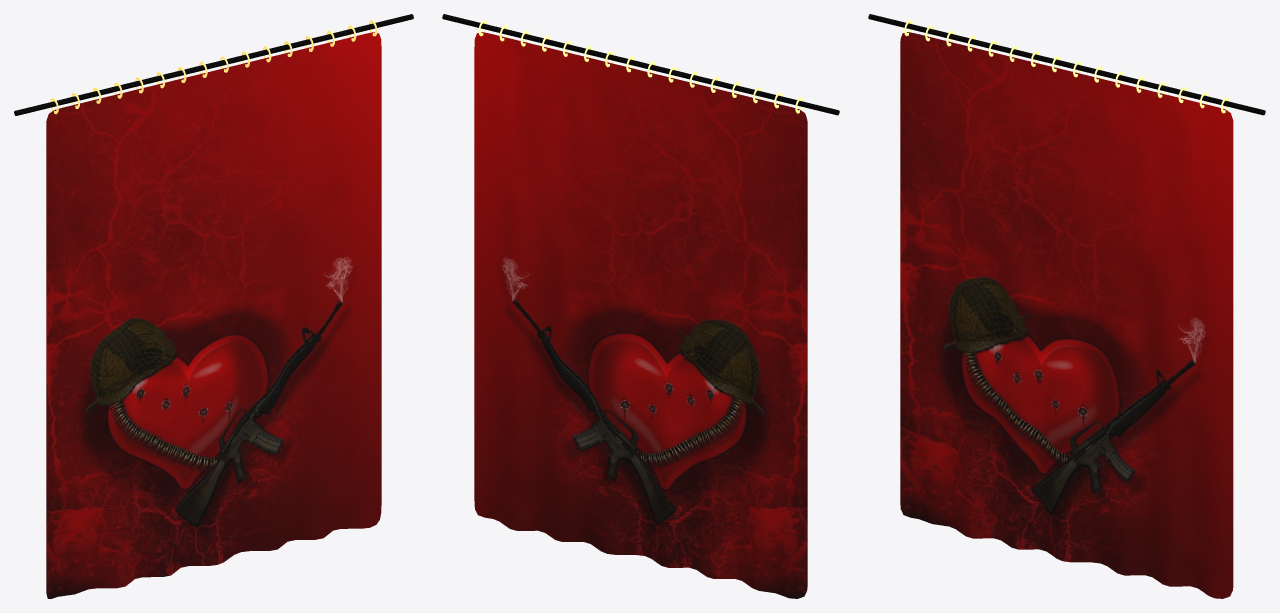
File: cortina.glb
3 views of the same model, side by side, from view 1: azimuth 30°, elevation 25°; view 2: azimuth 150°, elevation 25°; view 3: azimuth 330°, elevation 25° (orthographic).
Visible parts, largest first — view 1: cartelii, Cylinder, Torus; view 2: cartelii, Cylinder, Torus; view 3: cartelii, Cylinder, Torus.
Boxes of the visible parts, x1,y1,x2,y2 form: cartelii: (46, 32, 381, 598); Cylinder: (14, 14, 413, 115); Torus: (50, 20, 377, 113); cartelii: (474, 32, 807, 598); Cylinder: (442, 14, 839, 115); Torus: (478, 20, 803, 113); cartelii: (900, 32, 1233, 598); Cylinder: (868, 14, 1265, 115); Torus: (904, 20, 1229, 113).
Bounding box in the file's own units: 1.89 × 2.29 × 0.0693.
Materials: 3 (1 with a texture image).
